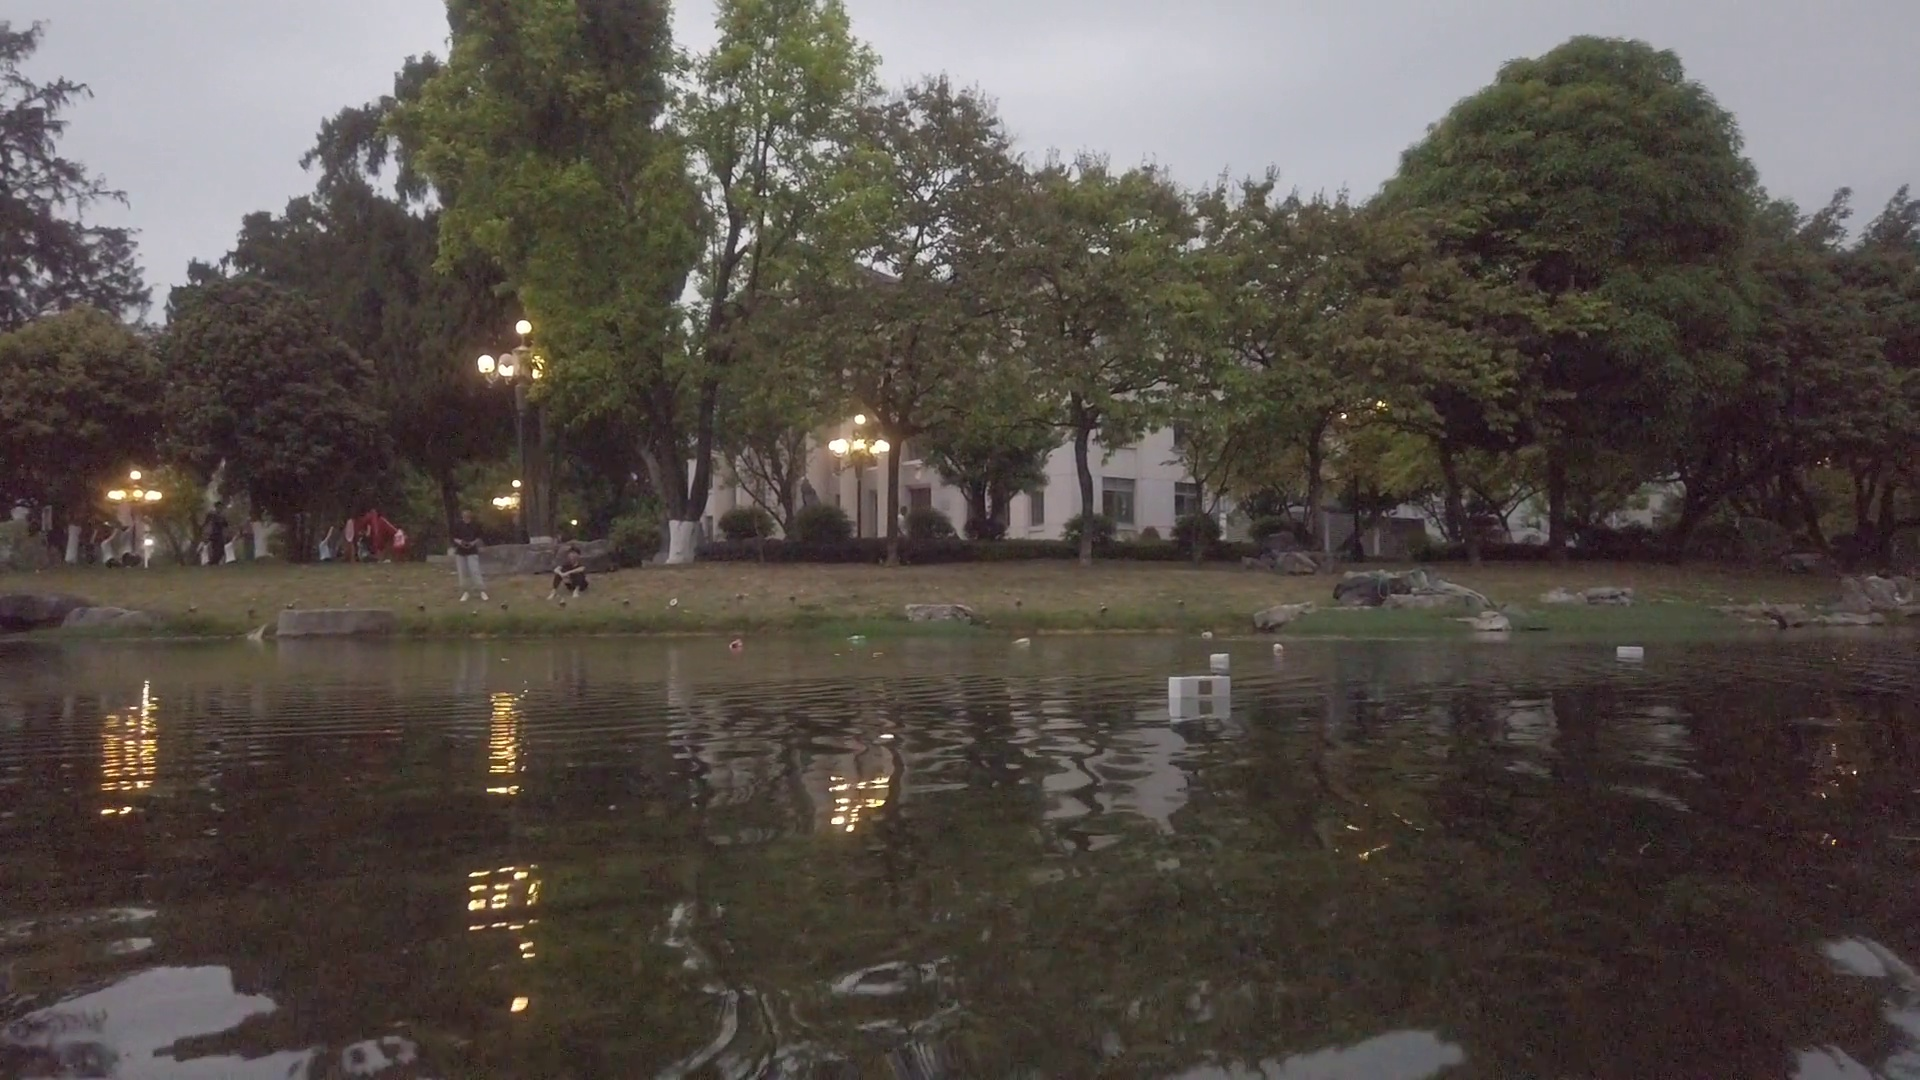bottle: (729, 637, 744, 649), (1013, 638, 1031, 646), (849, 634, 866, 642), (1200, 632, 1213, 638), (1273, 644, 1282, 653)
carton: (1168, 675, 1229, 698), (1617, 644, 1644, 657), (1211, 654, 1230, 661)
